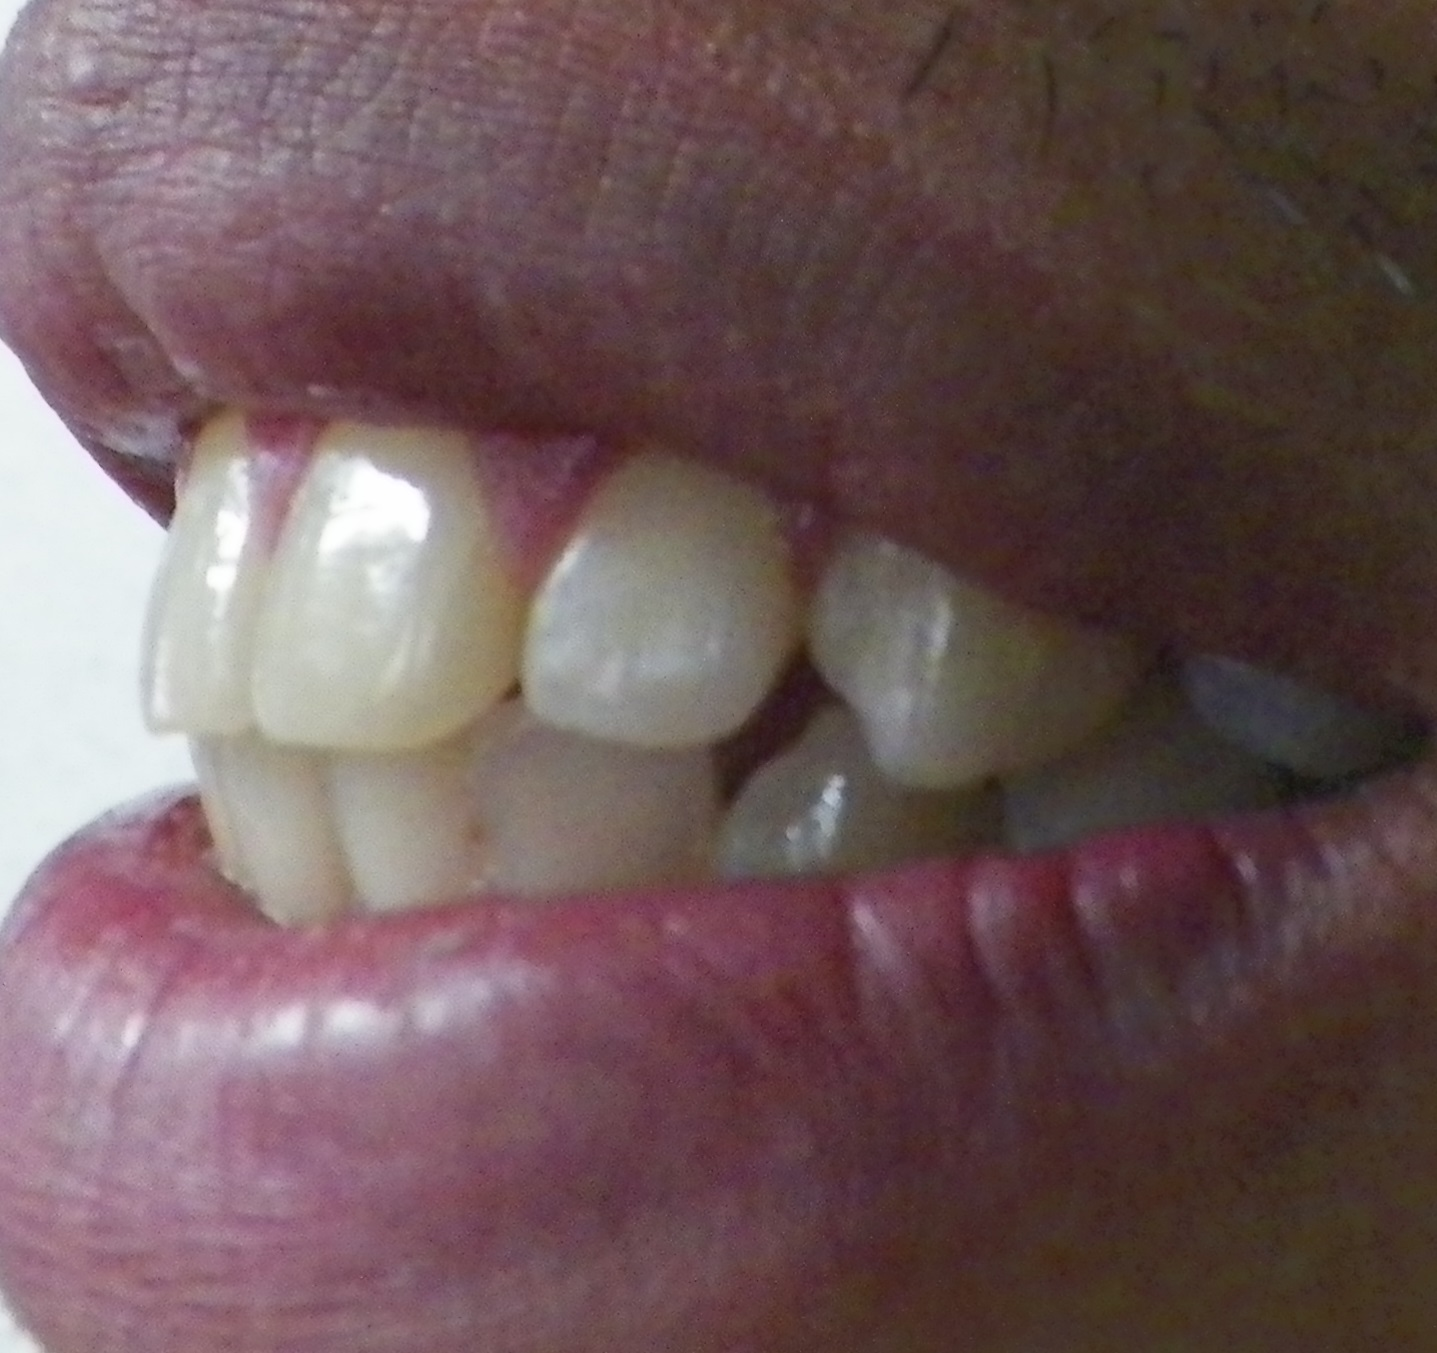boca: (141, 417, 1342, 905)
